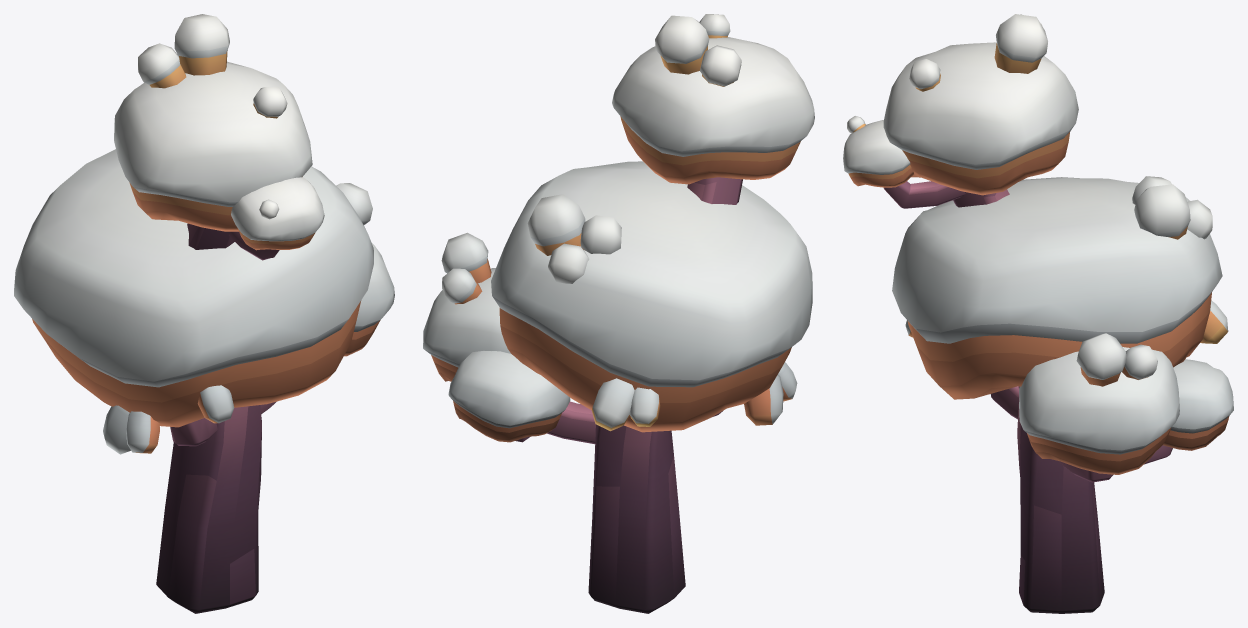
Rendered from grassland_tree_col2_7_snow.fbx.
The picture shows the model from 3 angles, left to right: view 1: azimuth 30°, elevation 25°; view 2: azimuth 150°, elevation 25°; view 3: azimuth 270°, elevation 25°; orthographic projection. The views are drawn at different scales.
Visible parts, largest first — view 1: grassland_tree_col2_7_snow; view 2: grassland_tree_col2_7_snow; view 3: grassland_tree_col2_7_snow.
Part boxes in pixels (x1=…): grassland_tree_col2_7_snow: x1=14, y1=14, x2=394, y2=613; grassland_tree_col2_7_snow: x1=423, y1=14, x2=814, y2=613; grassland_tree_col2_7_snow: x1=843, y1=14, x2=1233, y2=613.
Size of the model in its own units: 726 by 1187 by 738.
